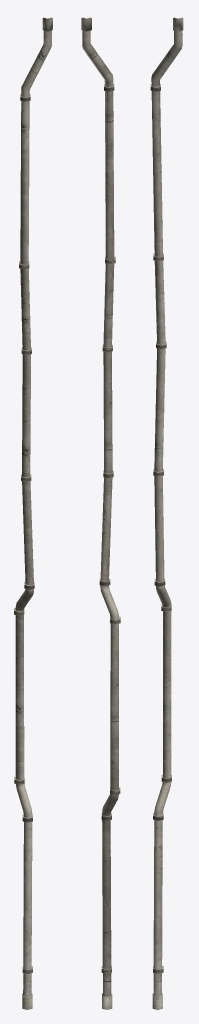
The model's file is gutter_448_001a.glb.
3 views of the same model, side by side, from view 1: azimuth 30°, elevation 25°; view 2: azimuth 210°, elevation 25°; view 3: azimuth 330°, elevation 25° (orthographic).
Visible parts, largest first — view 1: 0_PipeMetal004a; view 2: 0_PipeMetal004a; view 3: 0_PipeMetal004a.
Part boxes in pixels (bbox=[...]): 0_PipeMetal004a: bbox=[14, 17, 52, 1009]; 0_PipeMetal004a: bbox=[81, 17, 120, 1009]; 0_PipeMetal004a: bbox=[150, 17, 183, 1009].
Size of the model in its own units: 0.3928 by 11.37 by 0.2861.
1 material, 1 textured.
